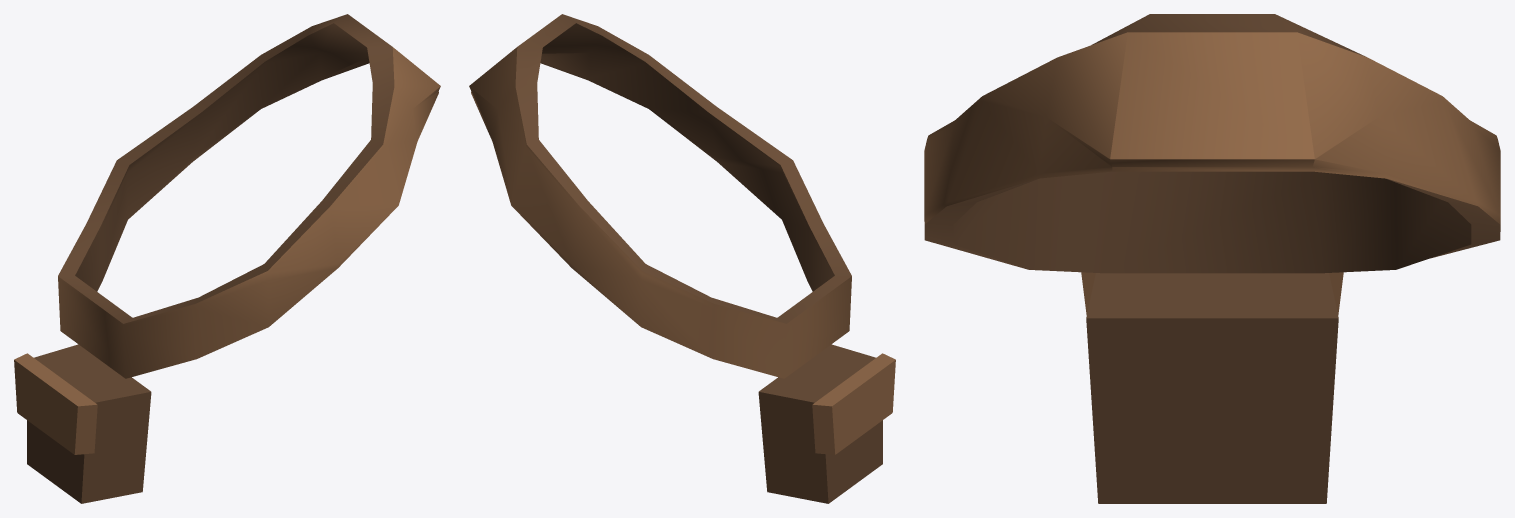
The model's file is person_fat_bandolier.obj.
3 views of the same model, side by side, from view 1: azimuth 30°, elevation 25°; view 2: azimuth 150°, elevation 25°; view 3: azimuth 270°, elevation 25° (orthographic). The views are drawn at different scales.
Visible parts, largest first — view 1: person_fat_bandolier; view 2: person_fat_bandolier; view 3: person_fat_bandolier.
Part boxes in pixels (bbox=[...]): person_fat_bandolier: bbox=[14, 14, 440, 503]; person_fat_bandolier: bbox=[469, 14, 895, 503]; person_fat_bandolier: bbox=[924, 14, 1500, 503].
Bounding box in the file's own units: 0.6644 × 0.65 × 0.4794.
